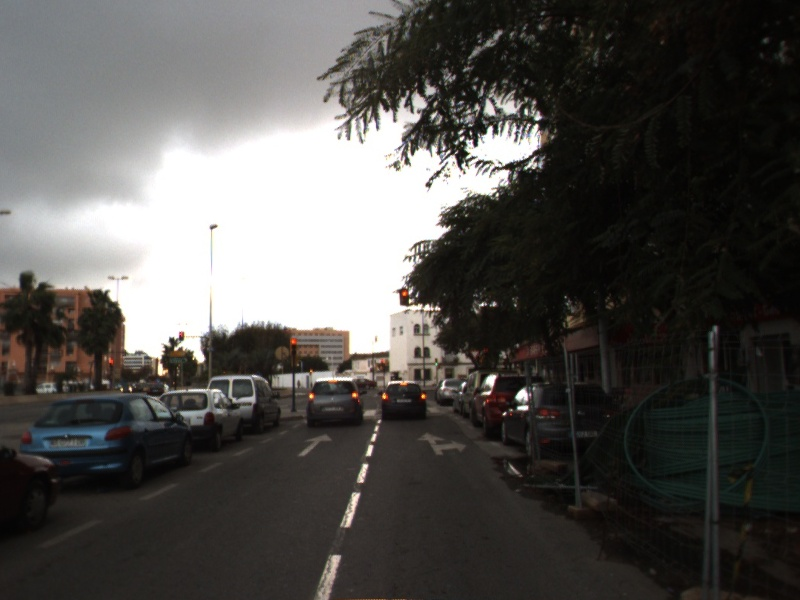STRAIGHT: (296, 432, 334, 457)
STRAIGHT_RIGHT: (416, 431, 468, 456)
